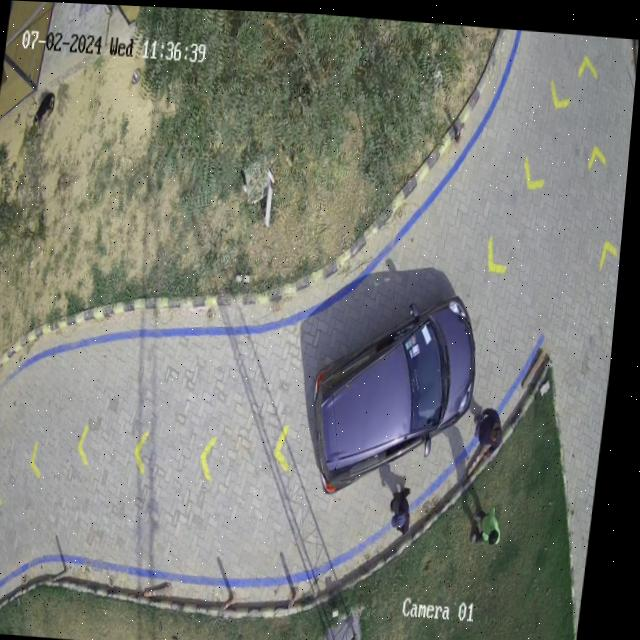car: (321, 293, 481, 489)
